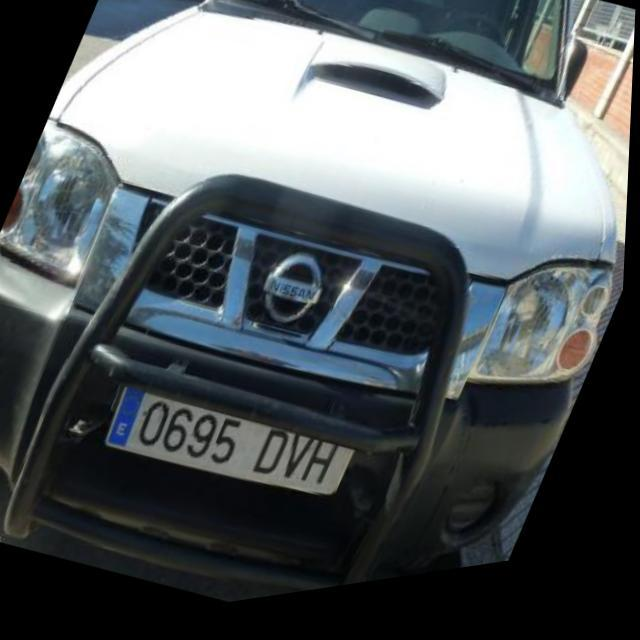license_plate: (100, 364, 364, 544)
